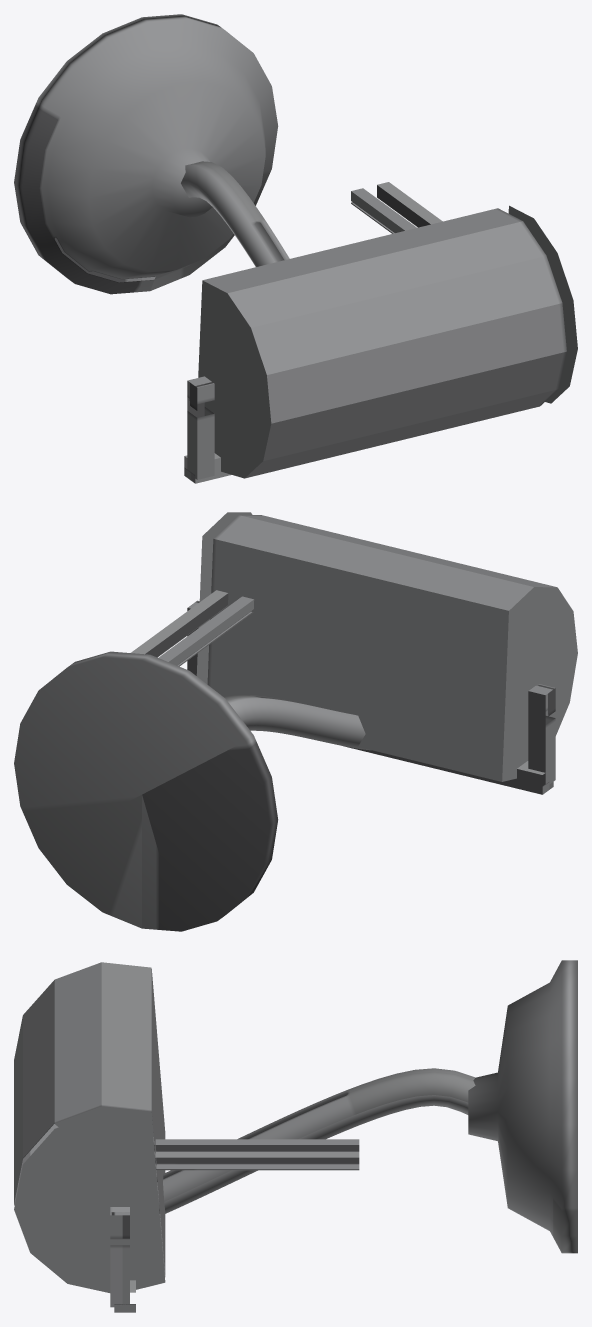
3 views of the same model, one above another, from view 1: azimuth 30°, elevation 25°; view 2: azimuth 150°, elevation 25°; view 3: azimuth 270°, elevation 25° (orthographic).
Bounding box in the file's own units: 0.4168 × 0.298 × 0.5696.
